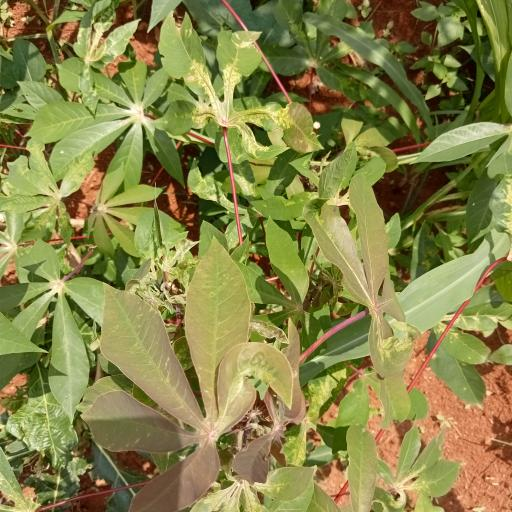Cassava_Healthy: (96, 235, 287, 512), (28, 58, 174, 186)
Cassava_Mosaic: (164, 13, 321, 158)
